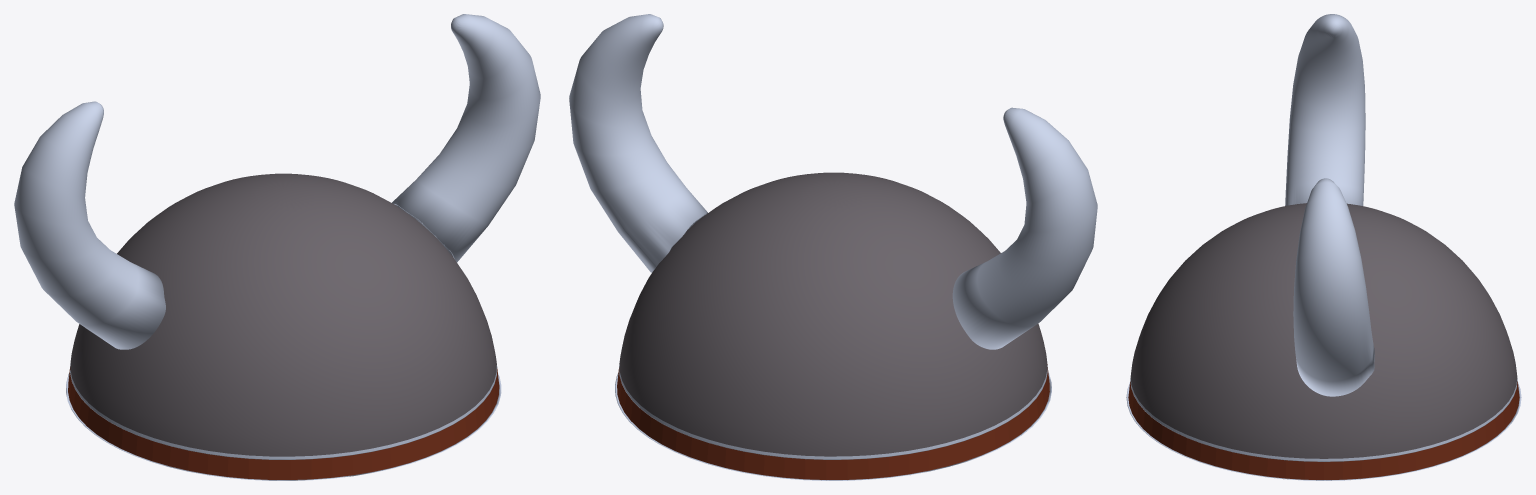
The model's file is hatOldSoldier.fbx.
The picture shows the model from 3 angles, left to right: view 1: azimuth 30°, elevation 25°; view 2: azimuth 150°, elevation 25°; view 3: azimuth 270°, elevation 25°; orthographic projection. The views are drawn at different scales.
Visible parts, largest first — view 1: Sphere, Sphere.001; view 2: Sphere, Sphere.001; view 3: Sphere, Sphere.001.
Boxes of the visible parts, x1=… form: Sphere: x1=14, y1=14, x2=540, y2=480; Sphere.001: x1=68, y1=366, x2=499, y2=479; Sphere: x1=569, y1=14, x2=1097, y2=480; Sphere.001: x1=617, y1=364, x2=1049, y2=479; Sphere: x1=1126, y1=14, x2=1521, y2=480; Sphere.001: x1=1128, y1=381, x2=1519, y2=479.
Size of the model in its own units: 274 by 167 by 201.
